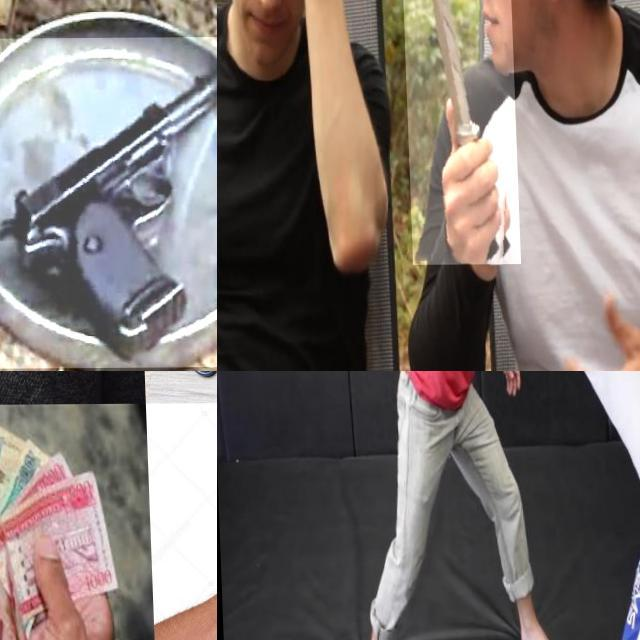-: (399, 0, 517, 265), (378, 371, 444, 417)
gun-knife-thesis - v11 Yolov5 augmented: (0, 37, 217, 369)
